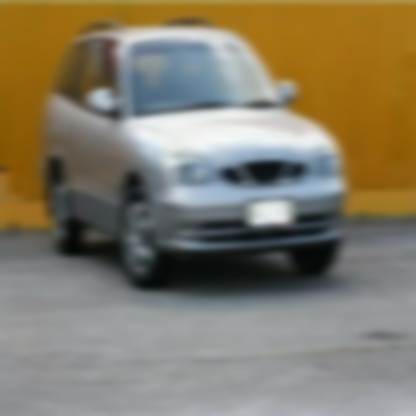Vehicle: (38, 17, 346, 291)
